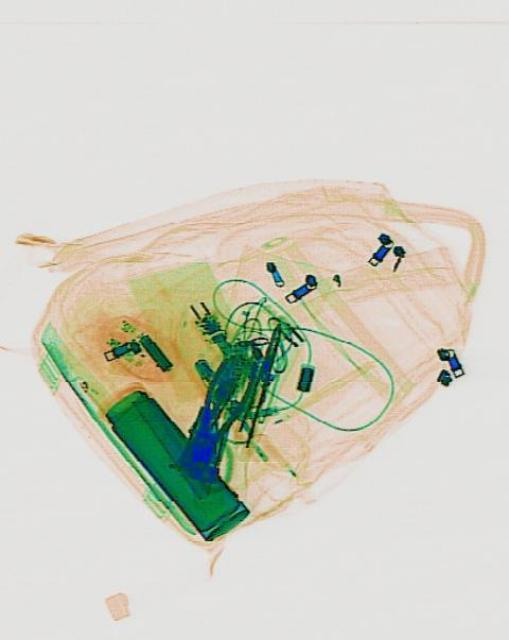Pliers: (175, 344, 262, 480)
